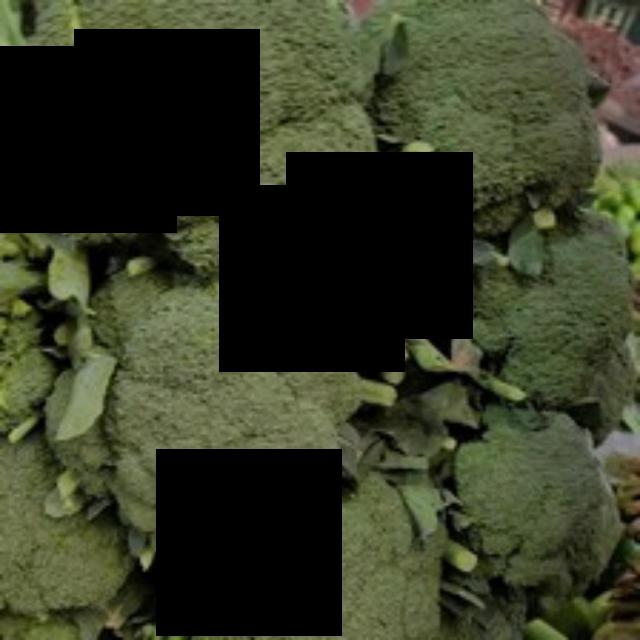broccoli: (54, 0, 390, 302)
